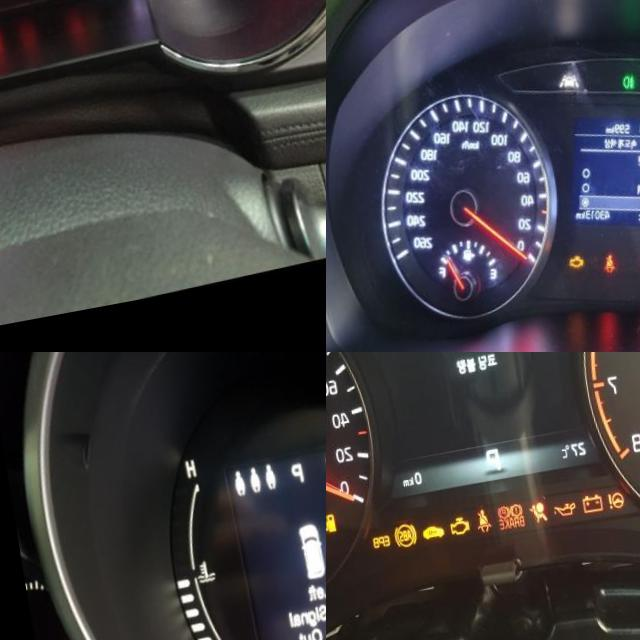FrontFogLight: (614, 85, 630, 103)
LaneCenteringOff: (551, 80, 575, 102)
SideLamp: (634, 86, 640, 104)
